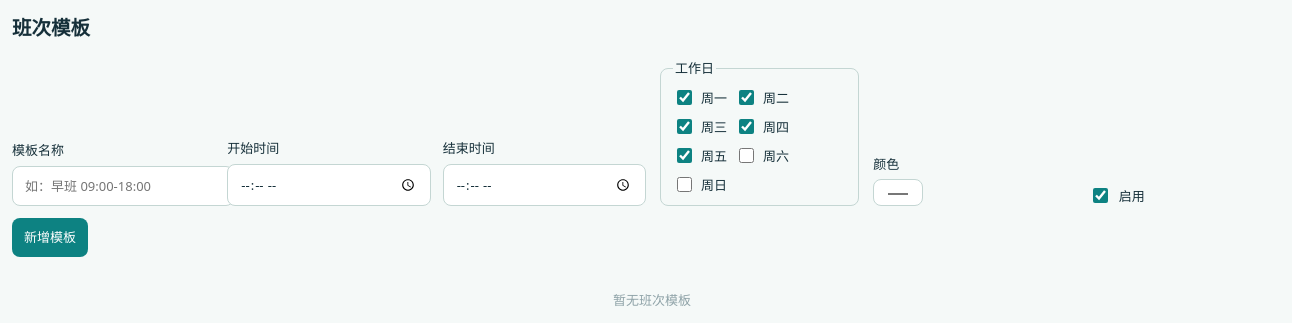
Test: TemplateSection › validates the form before creating
Click the button "新增模板" at (50,238), box [12,218,88,257]
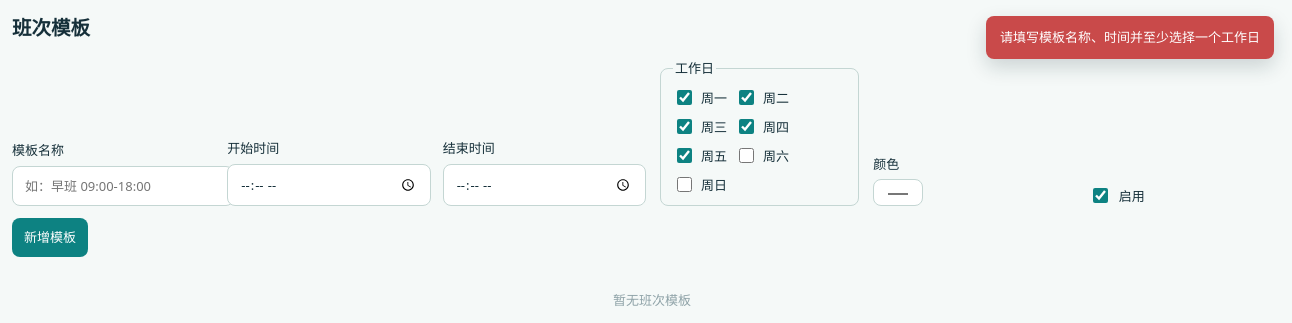
Check: the text "请填写模板名称、时间并至少选择一个工作日" is shown, box [986,16,1274,59]
